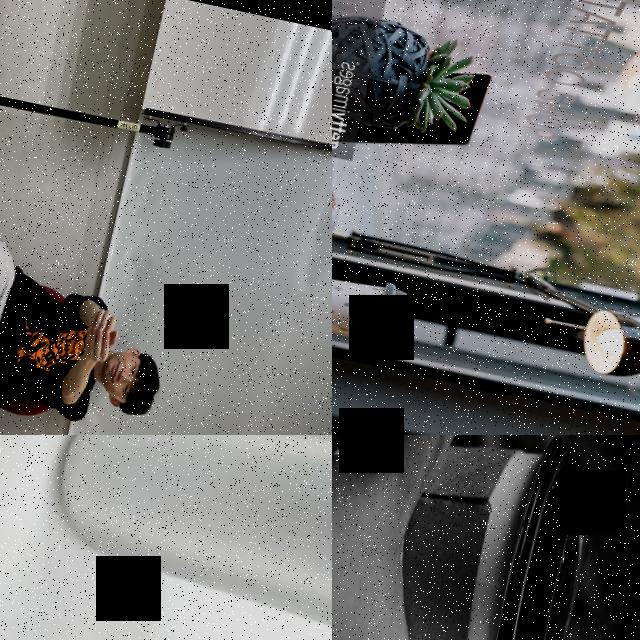can: (27, 435, 332, 640)
cup: (332, 435, 603, 640), (332, 253, 409, 354)
